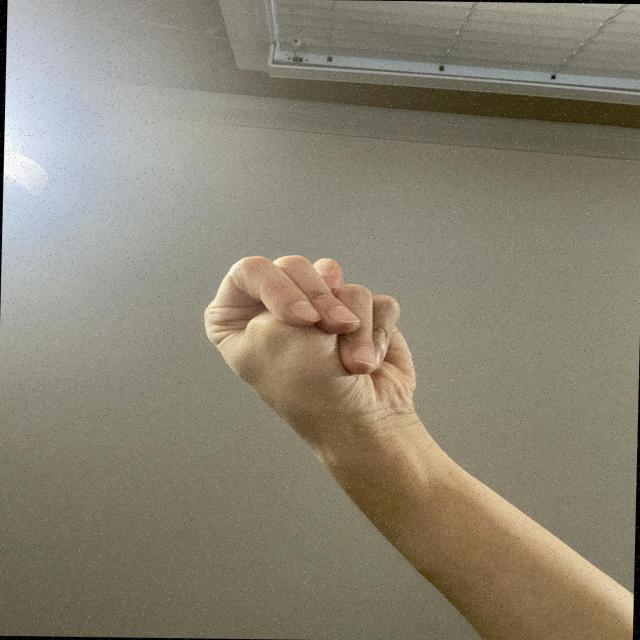N: (193, 249, 429, 454)
